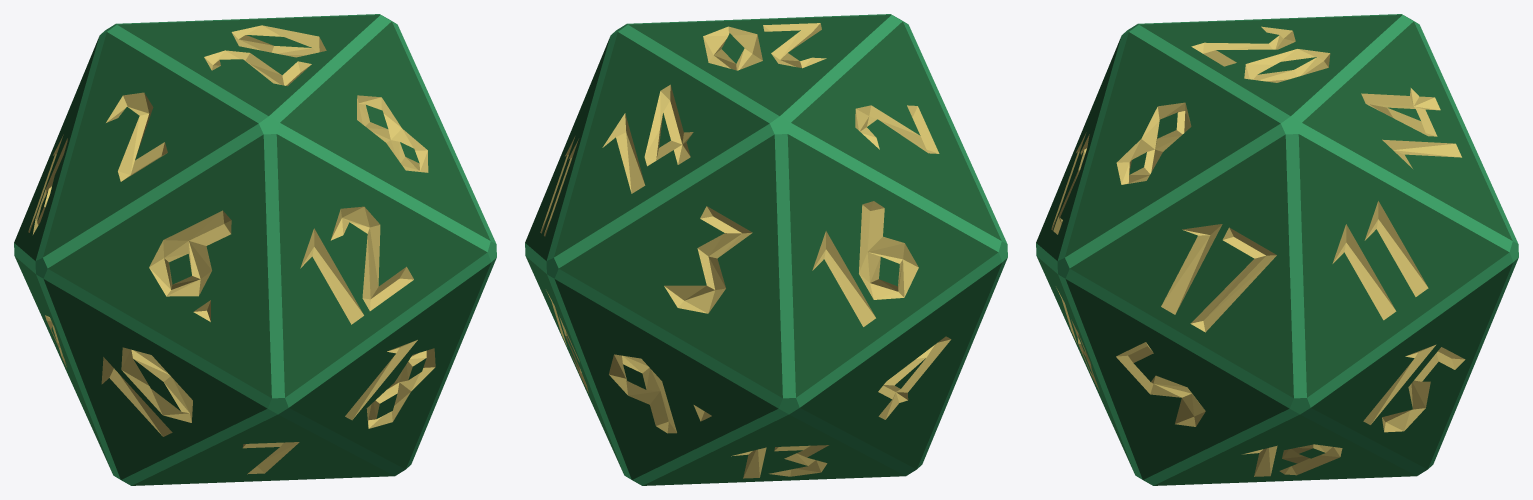
File: d20-twenty-sided-die-038f10.glb
3 views of the same model, side by side, from view 1: azimuth 30°, elevation 25°; view 2: azimuth 150°, elevation 25°; view 3: azimuth 270°, elevation 25° (orthographic).
Visible parts, largest first — view 1: resin, numerals; view 2: resin, numerals; view 3: resin, numerals.
Part boxes in pixels (left/top/right/bottom): resin: left=14, top=14, right=496, bottom=485; numerals: left=28, top=25, right=435, bottom=474; resin: left=525, top=14, right=1007, bottom=485; numerals: left=540, top=23, right=951, bottom=478; resin: left=1036, top=14, right=1518, bottom=485; numerals: left=1051, top=26, right=1465, bottom=476.
Size of the model in its own units: 0.0241 by 0.02 by 0.0221.
